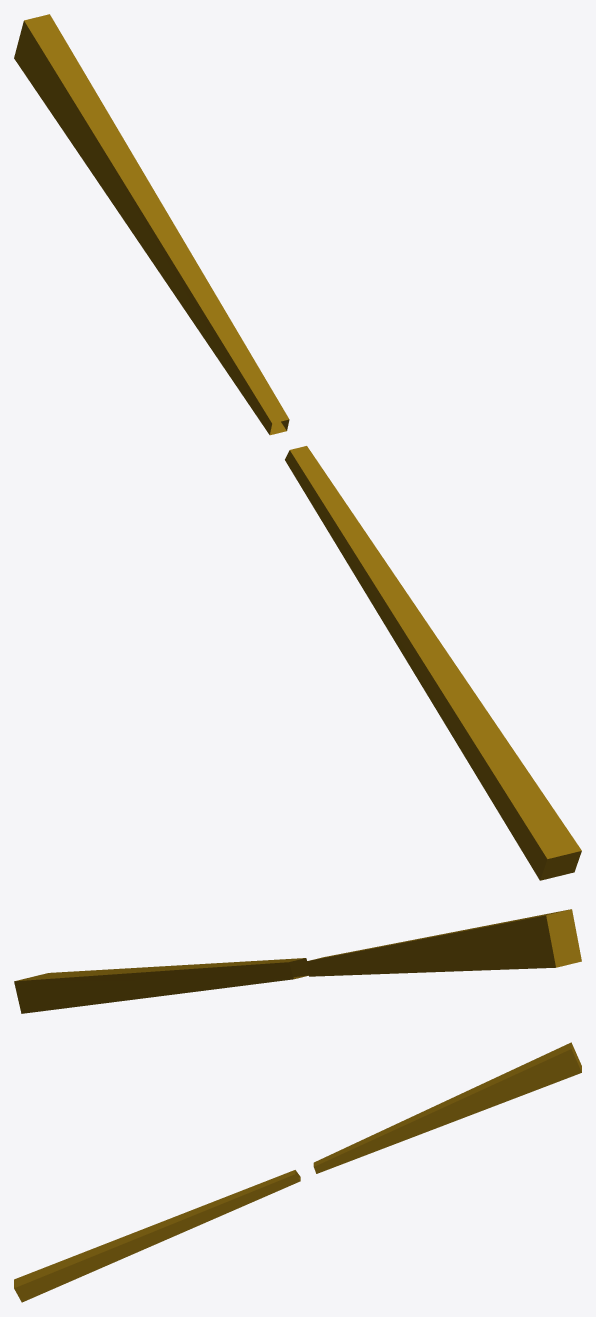
The model's file is npc_world_zaff_7.obj.
3 views of the same model, one above another, from view 1: azimuth 30°, elevation 25°; view 2: azimuth 210°, elevation 25°; view 3: azimuth 270°, elevation 25° (orthographic). The views are drawn at different scales.
Bounding box in the file's own units: 0.0625 × 0.8281 × 1.69.
